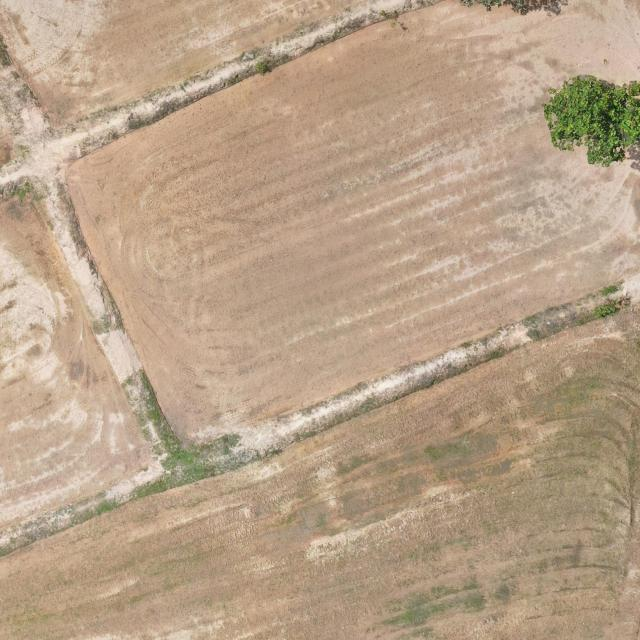tree: (539, 73, 640, 170)
